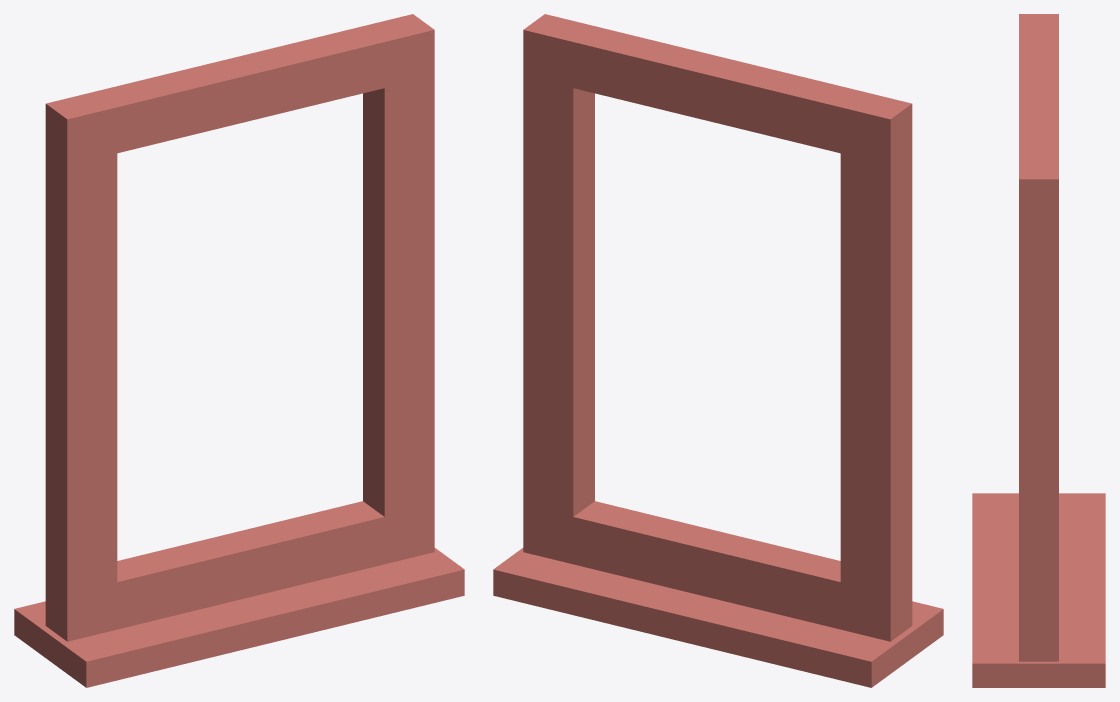
The model's file is Window_3F.fbx.
3 renders of one model, left to right at view 1: azimuth 30°, elevation 25°; view 2: azimuth 150°, elevation 25°; view 3: azimuth 270°, elevation 25°, orthographic. The views are drawn at different scales.
Parts seen in each view (by area): view 1: polySurface1635; view 2: polySurface1635; view 3: polySurface1635.
Boxes of the visible parts, x1,y1,x2,y2 form: polySurface1635: (14, 14, 464, 687); polySurface1635: (493, 14, 943, 687); polySurface1635: (972, 14, 1105, 687).
Bounding box in the file's own units: 1.51 × 2.09 × 0.5.
1 material, 1 textured.
